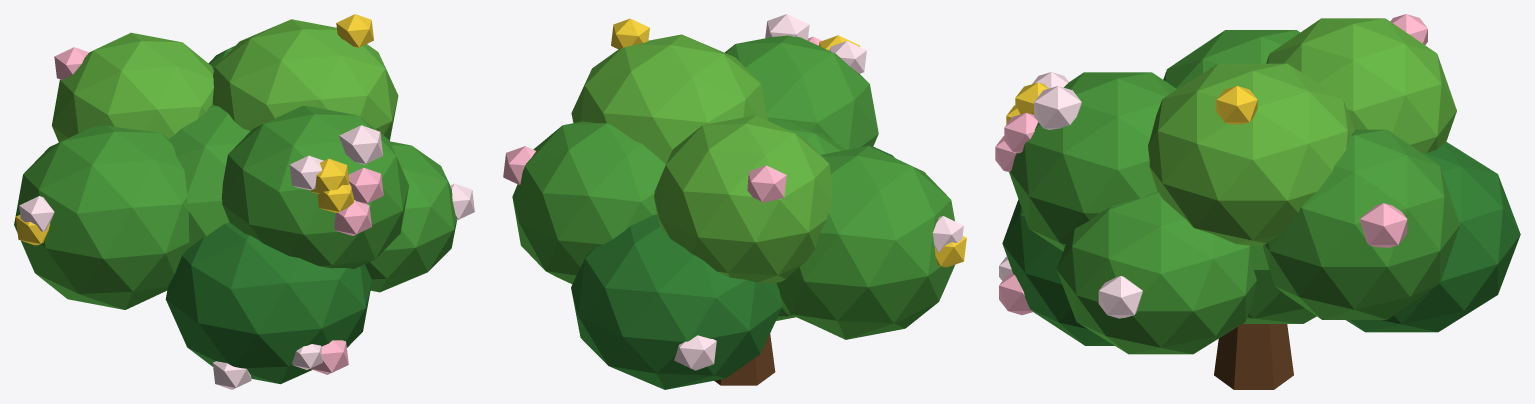
The model's file is bush-flower.glb.
3 views of the same model, side by side, from view 1: azimuth 30°, elevation 25°; view 2: azimuth 150°, elevation 25°; view 3: azimuth 270°, elevation 25° (orthographic). The views are drawn at different scales.
Parts seen in each view (by area): view 1: BushFlower_Crown; view 2: BushFlower_Crown, BushFlower_Trunk; view 3: BushFlower_Crown, BushFlower_Trunk.
Part boxes in pixels (bbox=[...]): BushFlower_Crown: bbox=[14, 14, 474, 389]; BushFlower_Crown: bbox=[503, 14, 966, 389]; BushFlower_Trunk: bbox=[714, 333, 775, 385]; BushFlower_Crown: bbox=[995, 14, 1520, 354]; BushFlower_Trunk: bbox=[1214, 324, 1293, 389].
Bounding box in the file's own units: 1.17 × 0.8717 × 1.18.
